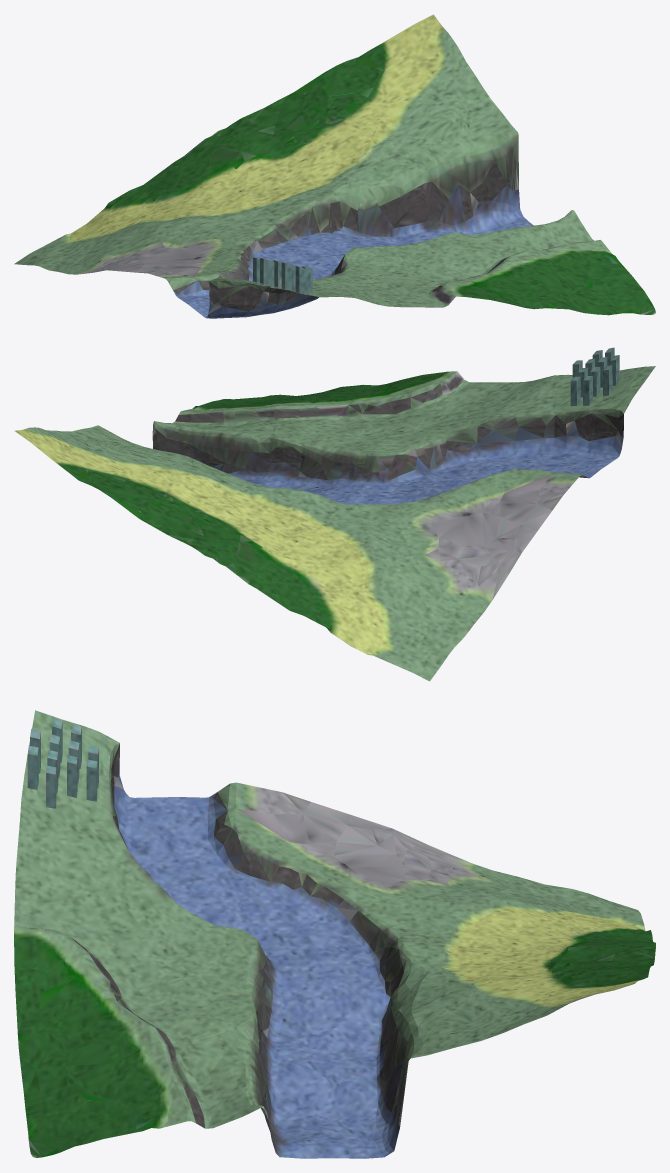
Rendered from microcosm.gltf.
3 renders of one model, top to bottom at view 1: azimuth 30°, elevation 25°; view 2: azimuth 150°, elevation 25°; view 3: azimuth 270°, elevation 25°, orthographic. The views are drawn at different scales.
Bounding box in the file's own units: 100 × 36.39 × 100.
Materials: 1 (1 with a texture image).
